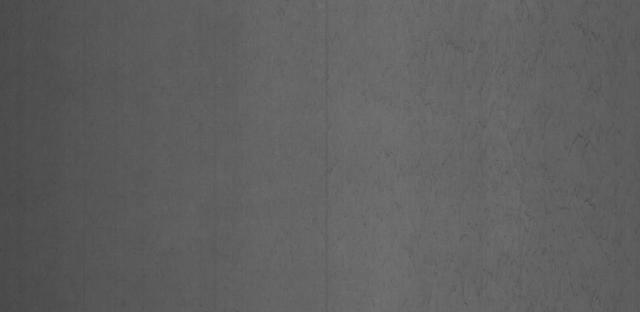silk_spot: (381, 8, 624, 292)
